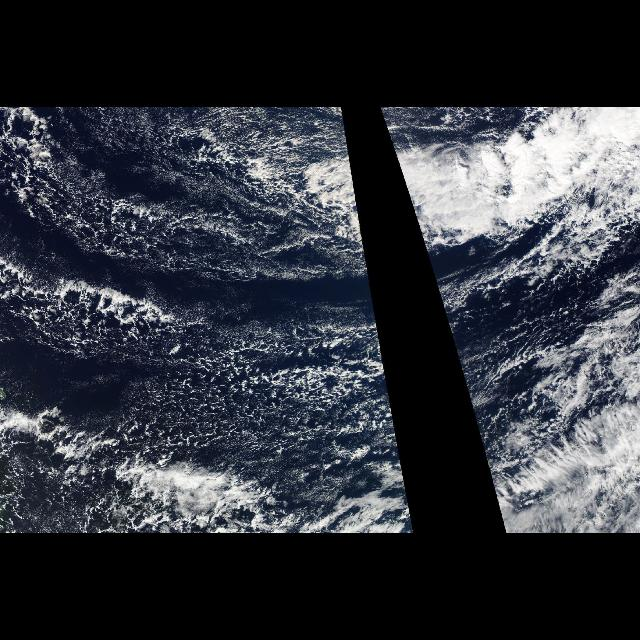Fish: (378, 108, 634, 282), (128, 108, 370, 282), (490, 400, 640, 508)
Gravel: (1, 107, 402, 533)
Sugar: (65, 108, 308, 288)
